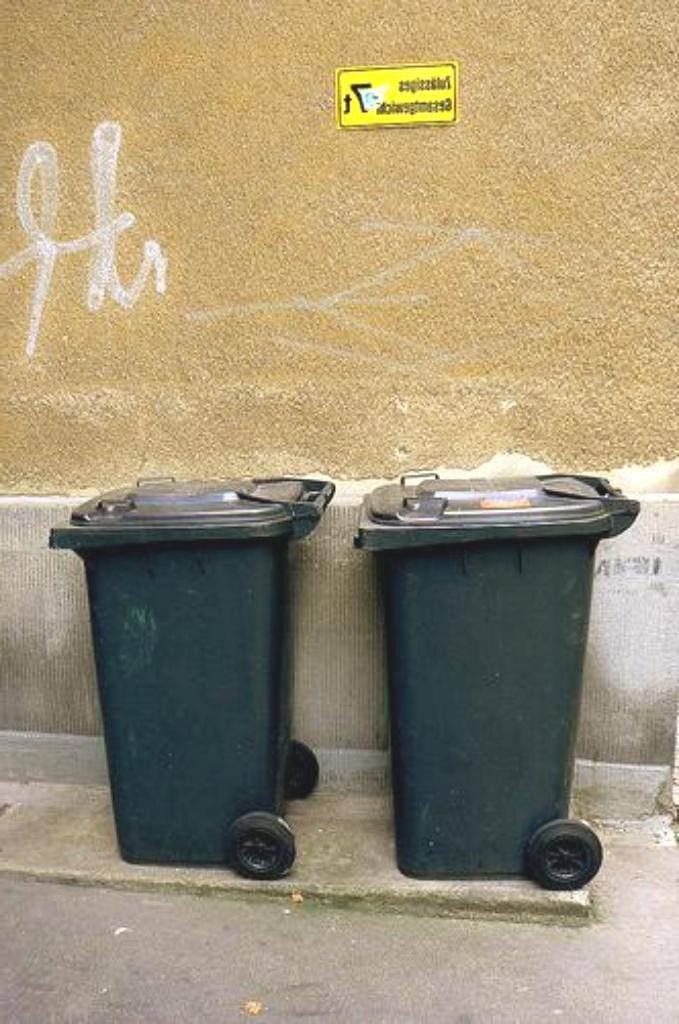dustbin: (343, 448, 645, 931), (19, 457, 337, 915)
